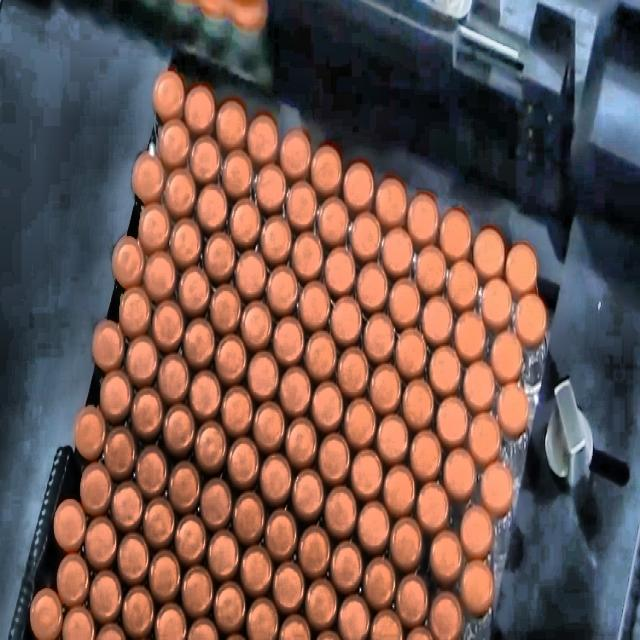vial: (321, 196, 357, 246), (162, 406, 198, 454), (210, 535, 246, 580), (150, 551, 183, 599), (156, 119, 191, 164), (169, 465, 201, 514), (351, 451, 385, 497), (427, 290, 456, 341), (377, 414, 410, 458), (364, 310, 394, 358), (366, 562, 398, 607), (474, 229, 508, 271), (88, 519, 117, 568), (324, 248, 355, 293), (287, 182, 319, 225), (274, 315, 306, 358), (383, 467, 415, 510), (193, 423, 225, 466), (255, 408, 289, 448), (294, 471, 327, 512), (443, 211, 470, 261), (190, 84, 220, 129), (466, 361, 496, 406), (201, 479, 229, 527), (222, 390, 252, 434), (76, 410, 106, 454), (214, 585, 244, 629), (383, 230, 415, 271), (402, 381, 434, 422), (410, 199, 439, 244), (171, 215, 200, 260), (121, 535, 150, 580), (414, 246, 445, 288), (340, 598, 371, 640), (244, 598, 275, 640), (328, 490, 358, 533), (460, 506, 488, 552), (270, 514, 298, 560), (410, 434, 442, 474), (457, 310, 486, 354), (105, 431, 136, 472), (380, 183, 410, 225), (140, 206, 170, 248), (506, 247, 540, 284), (114, 241, 148, 278), (142, 502, 176, 539), (204, 232, 236, 271), (265, 457, 291, 505), (370, 366, 399, 409), (183, 569, 212, 612), (242, 550, 273, 590), (340, 348, 368, 392), (190, 371, 218, 415), (401, 580, 429, 624), (262, 215, 292, 256), (309, 149, 343, 185), (235, 197, 261, 244), (350, 215, 383, 252), (164, 170, 196, 208), (250, 354, 282, 392), (186, 324, 218, 362), (79, 465, 110, 504), (391, 284, 419, 327), (138, 449, 166, 492), (275, 562, 305, 602), (235, 494, 261, 540), (161, 359, 190, 400), (229, 441, 256, 485), (396, 334, 428, 371), (199, 186, 230, 224), (472, 415, 500, 457), (306, 331, 334, 373), (225, 154, 255, 193), (465, 562, 491, 607), (294, 236, 323, 276), (333, 546, 362, 586), (499, 387, 527, 428), (266, 268, 296, 306), (287, 418, 317, 456), (114, 486, 144, 524), (219, 96, 246, 138), (439, 399, 466, 441), (212, 288, 240, 328), (321, 435, 349, 475), (432, 592, 460, 632), (300, 532, 328, 572), (135, 158, 166, 194), (446, 452, 476, 489), (315, 385, 342, 426), (302, 284, 331, 322), (258, 165, 285, 205), (219, 338, 246, 378), (120, 294, 150, 330), (129, 338, 156, 378), (250, 109, 275, 152), (434, 531, 459, 574), (239, 253, 268, 290), (177, 521, 206, 558), (94, 575, 120, 616), (60, 558, 86, 599), (347, 166, 375, 204), (360, 266, 388, 304), (432, 349, 460, 387), (134, 392, 162, 430), (484, 279, 509, 321), (307, 583, 336, 619), (124, 595, 153, 631), (158, 75, 184, 115), (518, 298, 544, 338), (361, 508, 387, 548), (94, 325, 122, 362), (393, 522, 420, 560), (176, 271, 205, 306), (154, 309, 183, 344), (192, 138, 220, 174), (334, 301, 362, 337), (492, 338, 522, 371), (33, 594, 59, 632), (54, 506, 84, 538), (157, 607, 186, 640), (451, 264, 476, 302), (244, 306, 270, 342), (284, 373, 310, 409), (421, 490, 447, 526), (102, 378, 128, 414), (280, 138, 310, 169), (483, 470, 510, 503), (147, 260, 172, 294), (65, 609, 91, 640), (348, 404, 373, 436), (372, 612, 399, 640), (279, 615, 307, 640), (188, 616, 216, 640), (98, 622, 120, 640), (316, 626, 340, 640), (409, 627, 430, 640), (225, 631, 244, 640)
